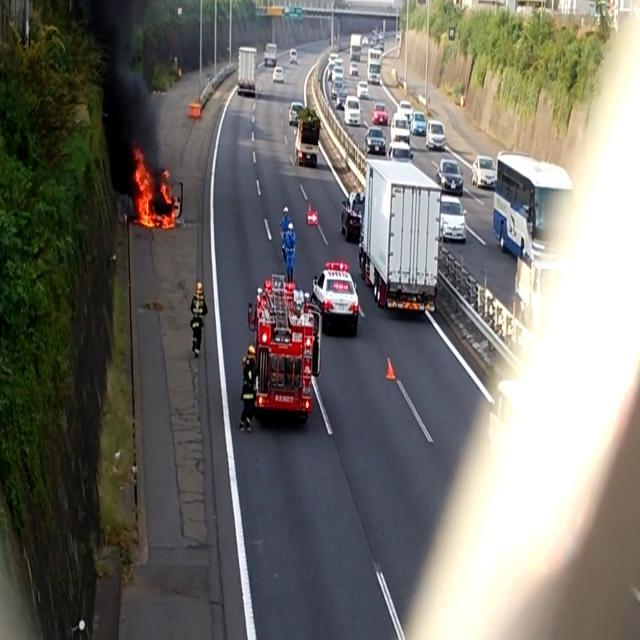Fire: (132, 150, 177, 230)
Smoke: (78, 1, 160, 168)
